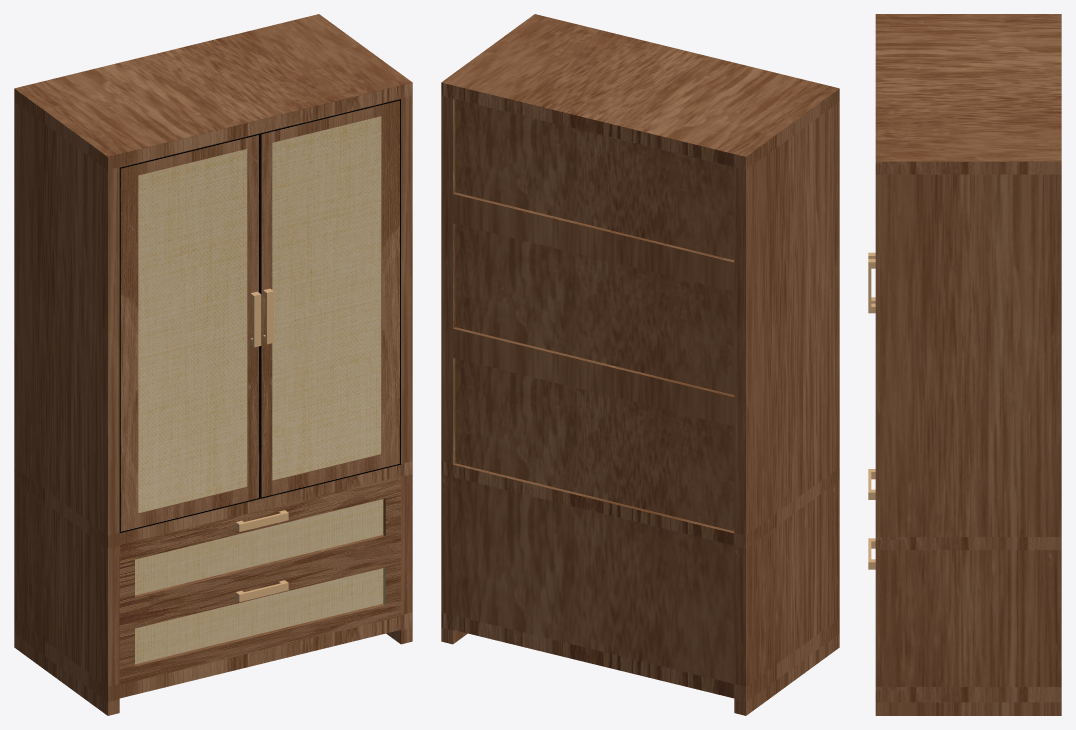
Rendered from Wood Mansion Wardrobe.fbx.
3 renders of one model, left to right at view 1: azimuth 30°, elevation 25°; view 2: azimuth 150°, elevation 25°; view 3: azimuth 270°, elevation 25°, orthographic.
Visible parts, largest first — view 1: Base, Left Door, Right Door, Upper Drawer, Lower Drawer; view 2: Base; view 3: Base.
Boxes of the visible parts, x1=… form: Base: x1=14, y1=14, x2=412, y2=715; Left Door: x1=119, y1=133, x2=260, y2=533; Right Door: x1=260, y1=99, x2=400, y2=498; Upper Drawer: x1=119, y1=476, x2=400, y2=615; Lower Drawer: x1=119, y1=547, x2=400, y2=684; Base: x1=441, y1=14, x2=839, y2=715; Base: x1=875, y1=14, x2=1061, y2=715.
Bounding box in the file's own units: 217 × 380 × 120.
